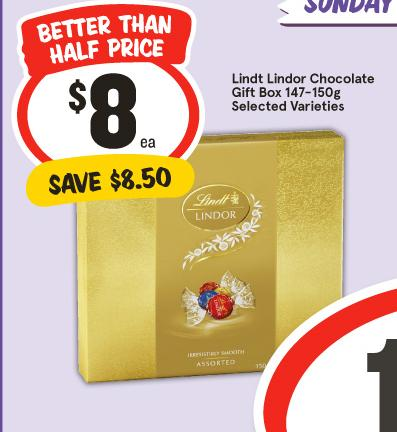description_block: (221, 55, 380, 119)
price_main: (21, 50, 197, 162)
product_image_block: (57, 135, 365, 398)
unit_price_block: (15, 152, 192, 204)
